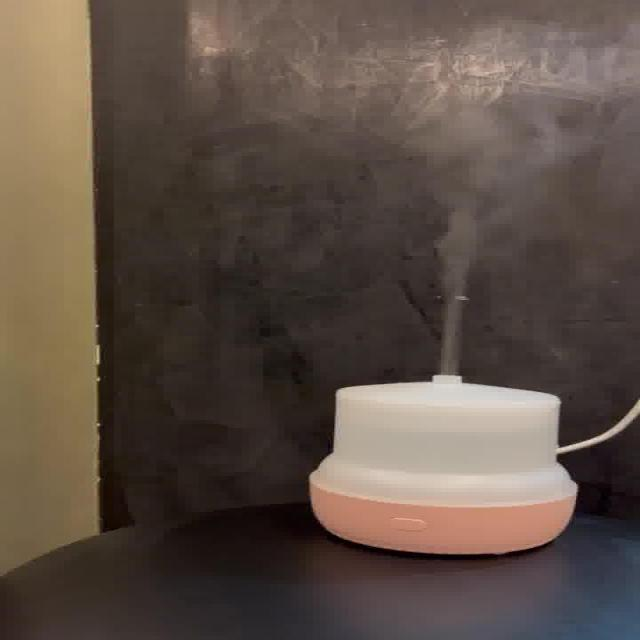fire: (408, 86, 588, 373)
